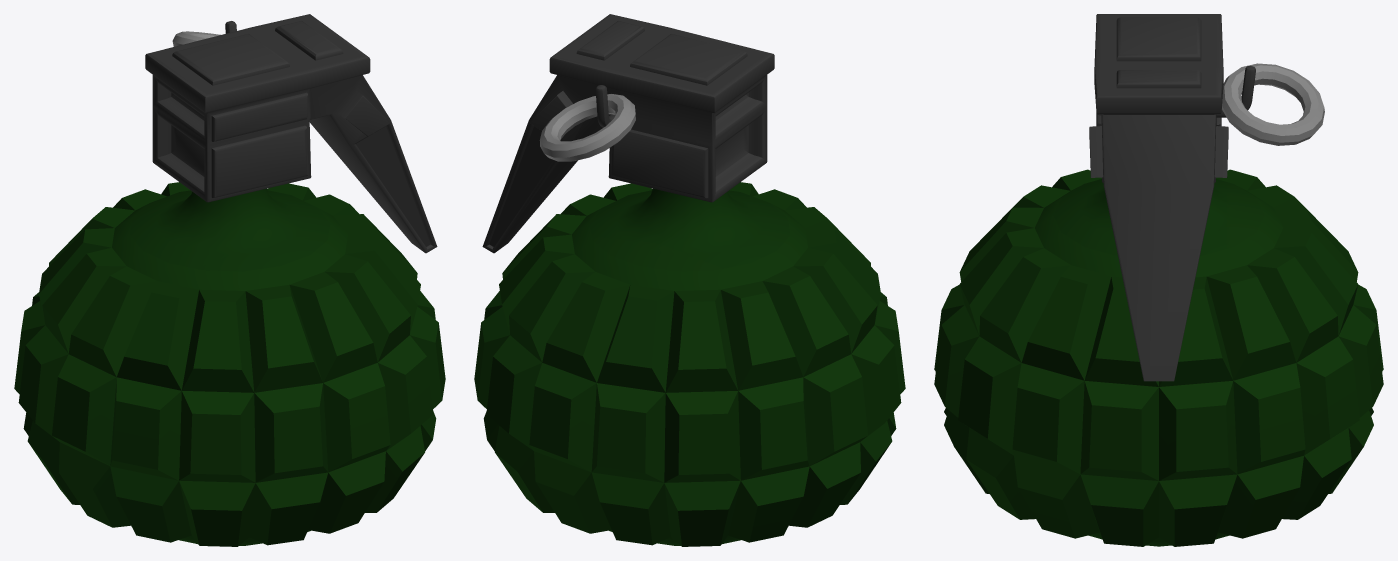
The model's file is nade_001.fbx.
The picture shows the model from 3 angles, left to right: view 1: azimuth 30°, elevation 25°; view 2: azimuth 150°, elevation 25°; view 3: azimuth 270°, elevation 25°; orthographic projection. The views are drawn at different scales.
Visible parts, largest first — view 1: Cylinder.025; view 2: Cylinder.025; view 3: Cylinder.025.
Part boxes in pixels (bbox=[...]): Cylinder.025: bbox=[14, 14, 445, 546]; Cylinder.025: bbox=[474, 14, 905, 546]; Cylinder.025: bbox=[934, 14, 1383, 546].
Bounding box in the file's own units: 43.34 × 48.9 × 41.78.
1 material, 1 textured.
